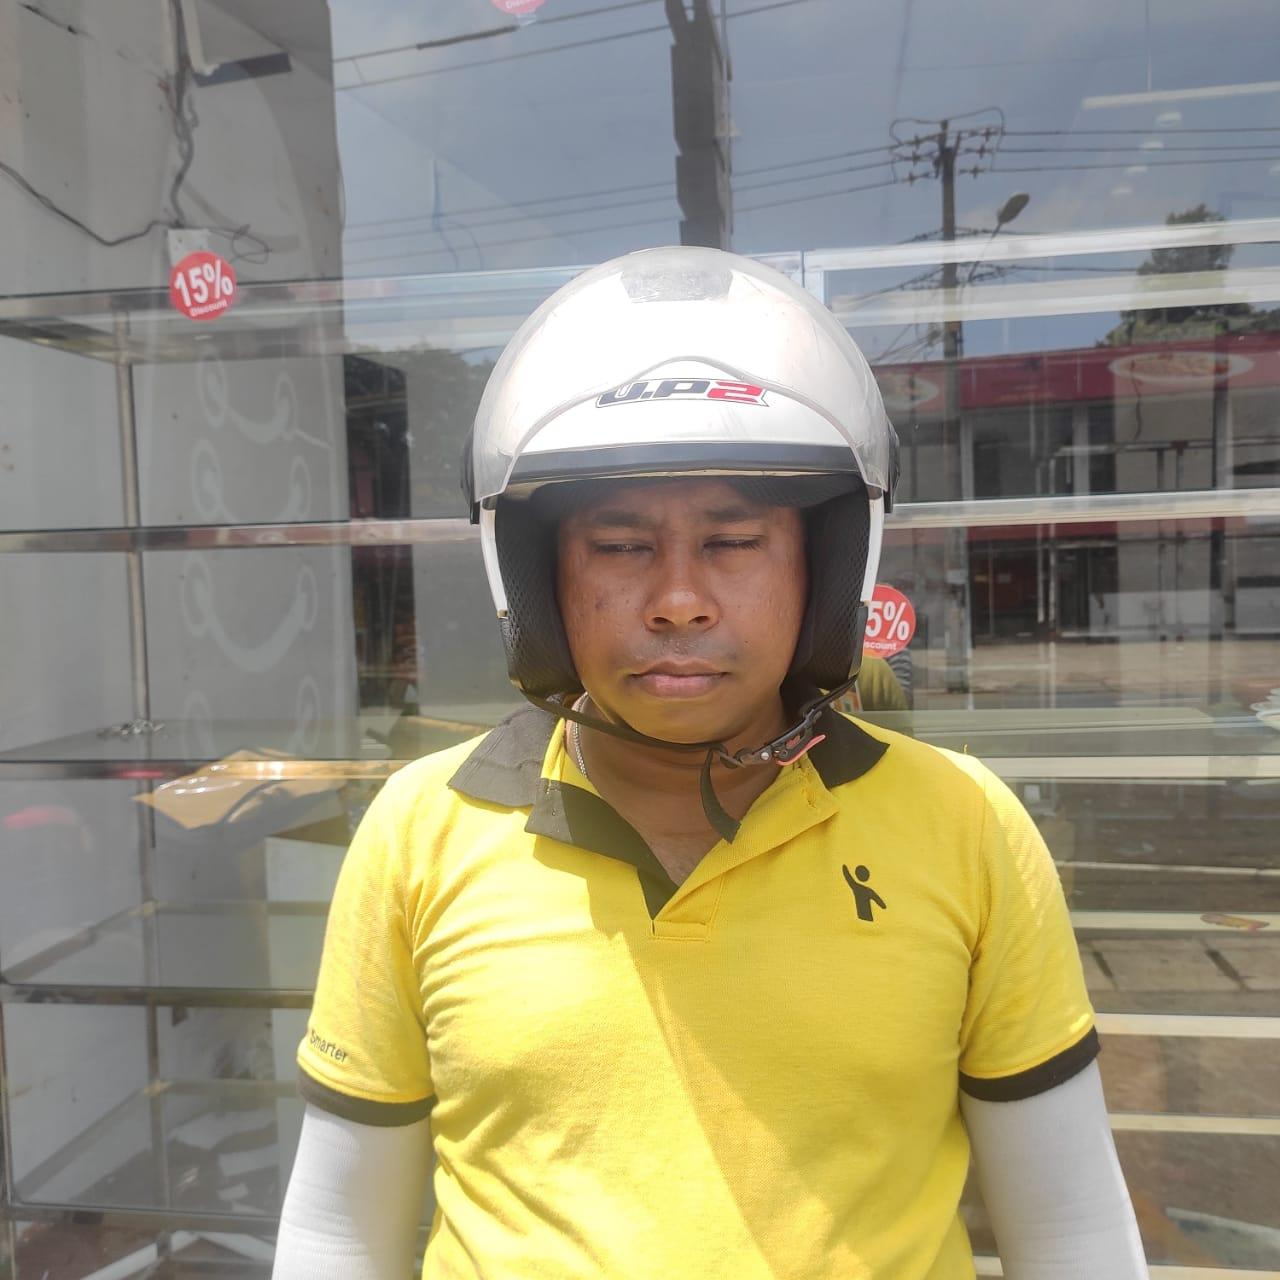helmet: (467, 240, 908, 707)
